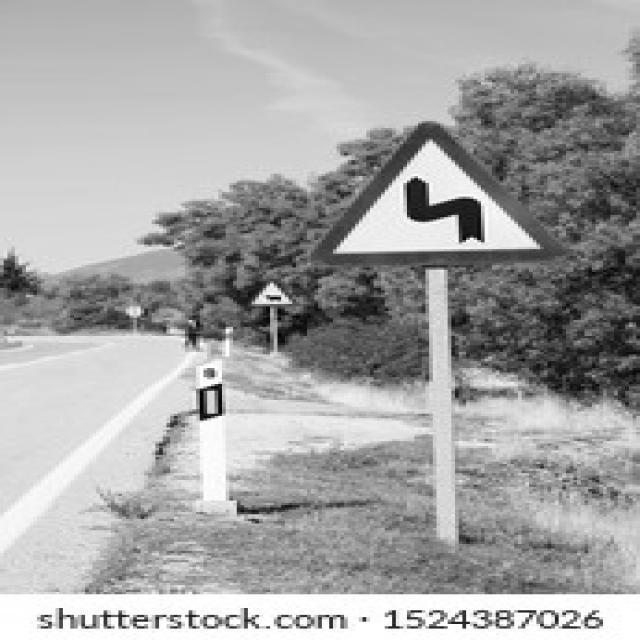left reverse bend: (317, 122, 563, 266)
